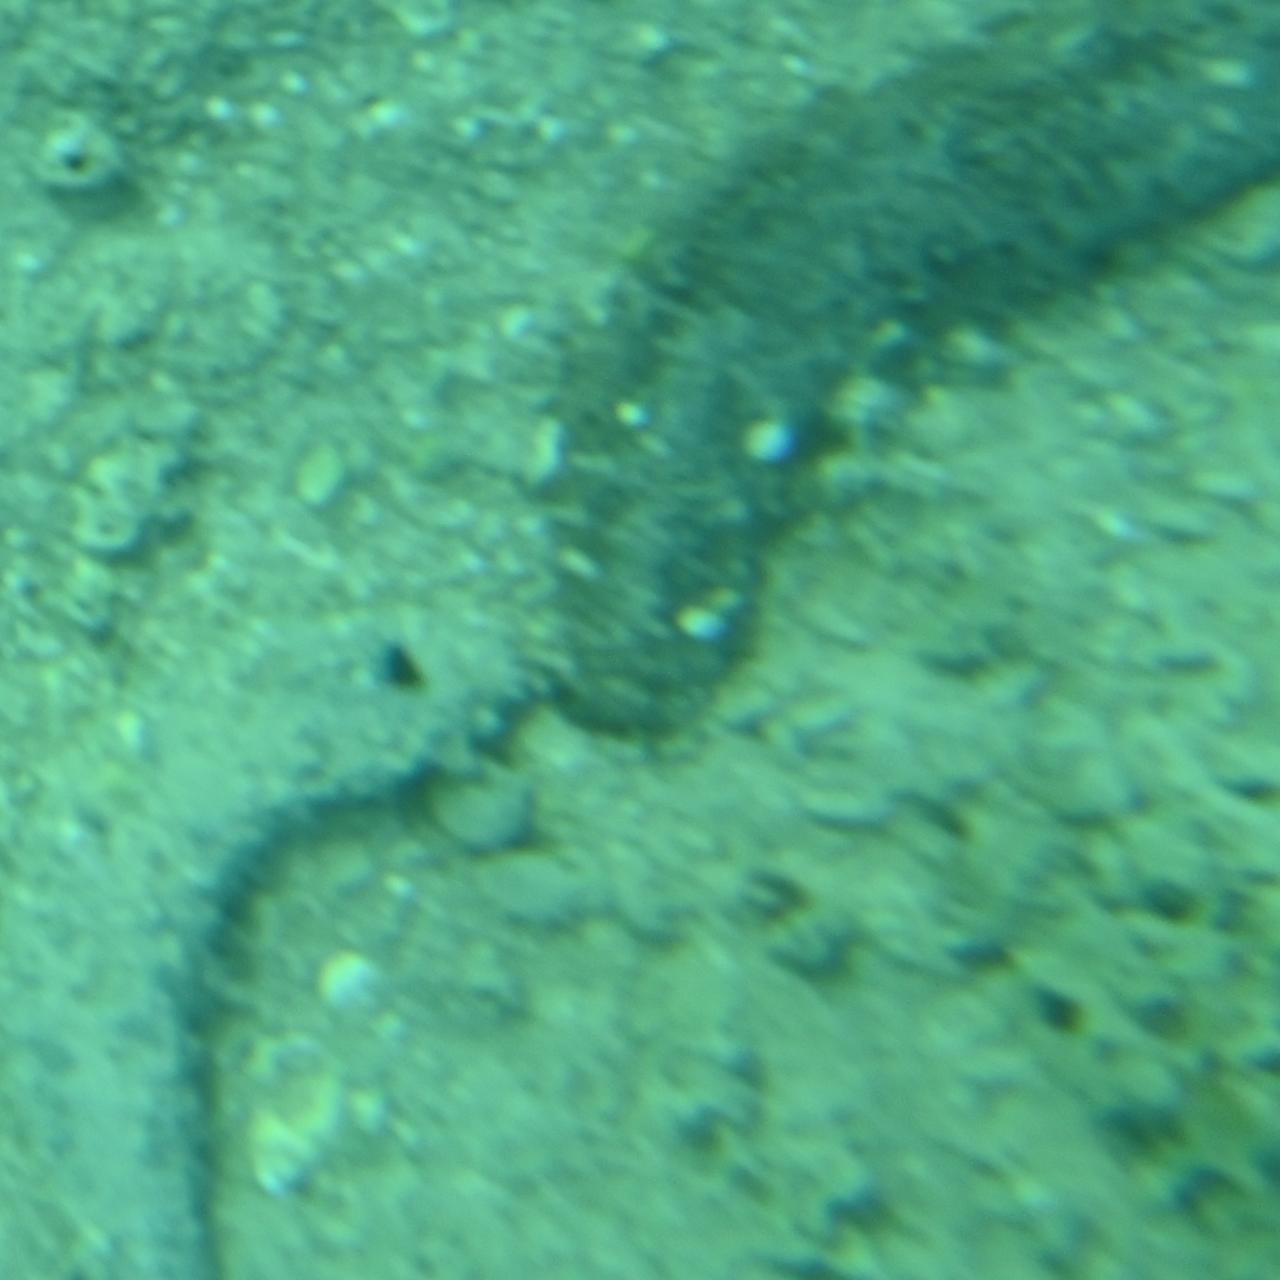Holothuria tubulosa: (531, 0, 1280, 762), (14, 597, 558, 1280)
